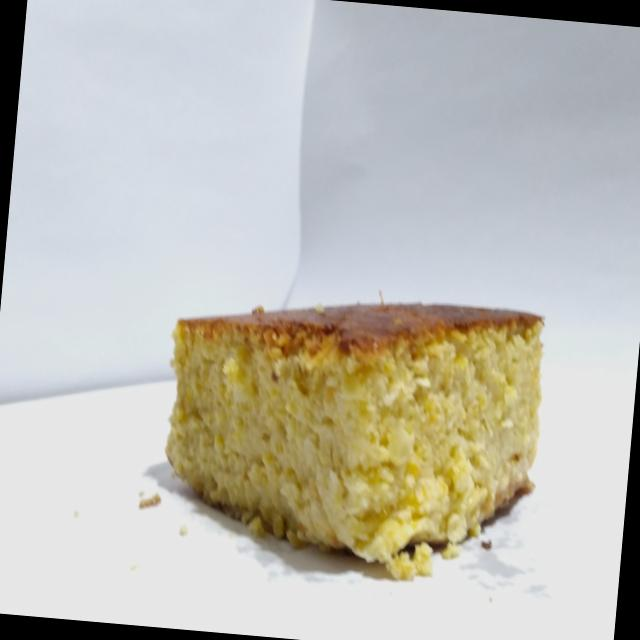Chipa_Guazu: (138, 255, 558, 600)
